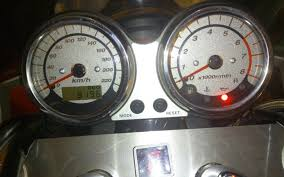Digital_Meter: (61, 85, 101, 100)
